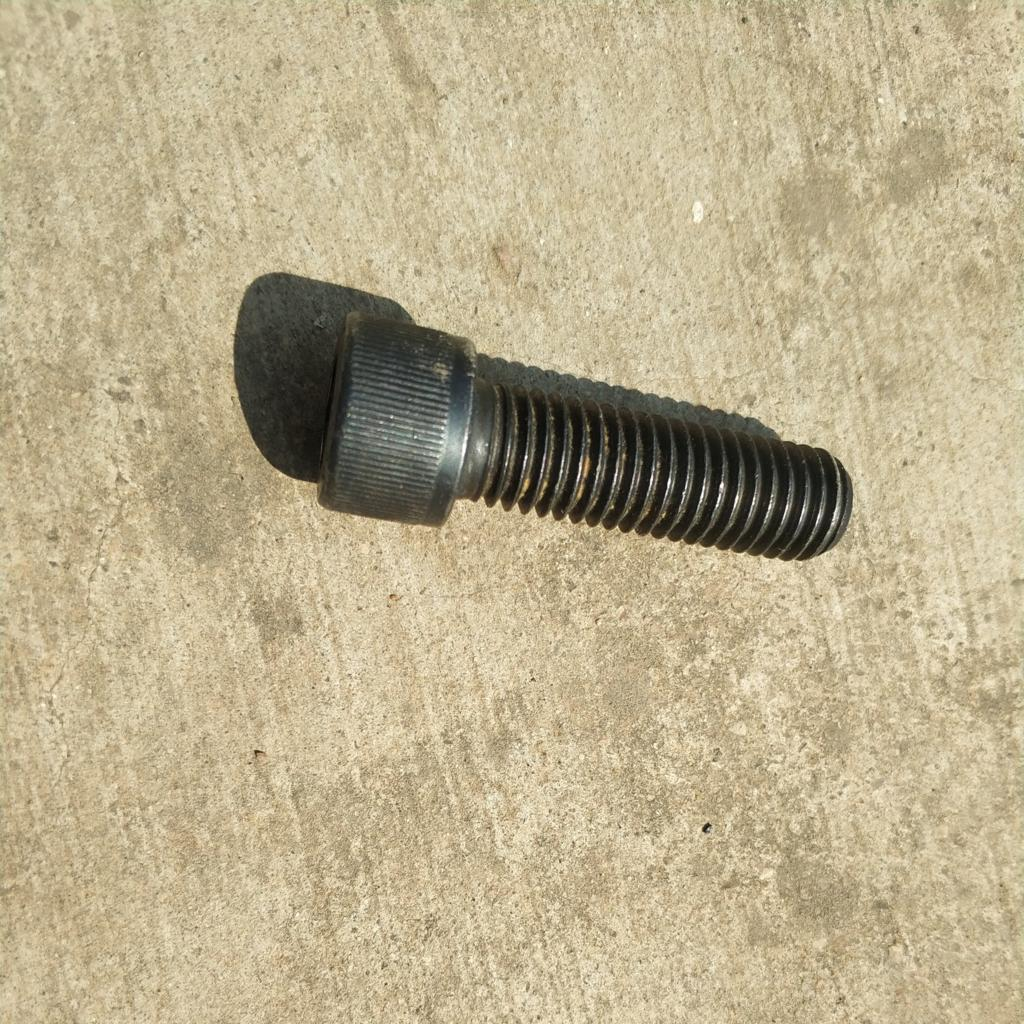screwtype1black: (304, 300, 857, 603)
